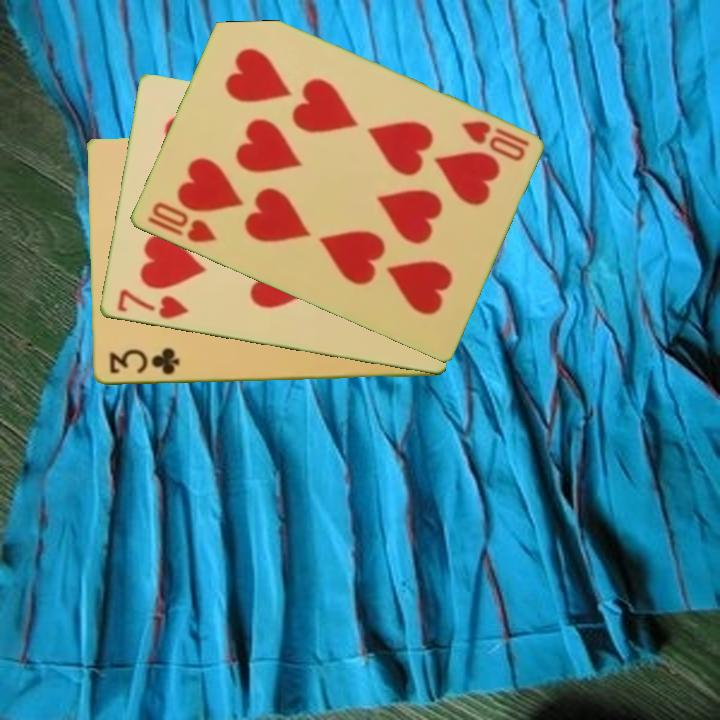10h: (143, 198, 220, 246), (456, 117, 532, 165)
3c: (105, 345, 182, 378)
7h: (113, 285, 191, 323)
